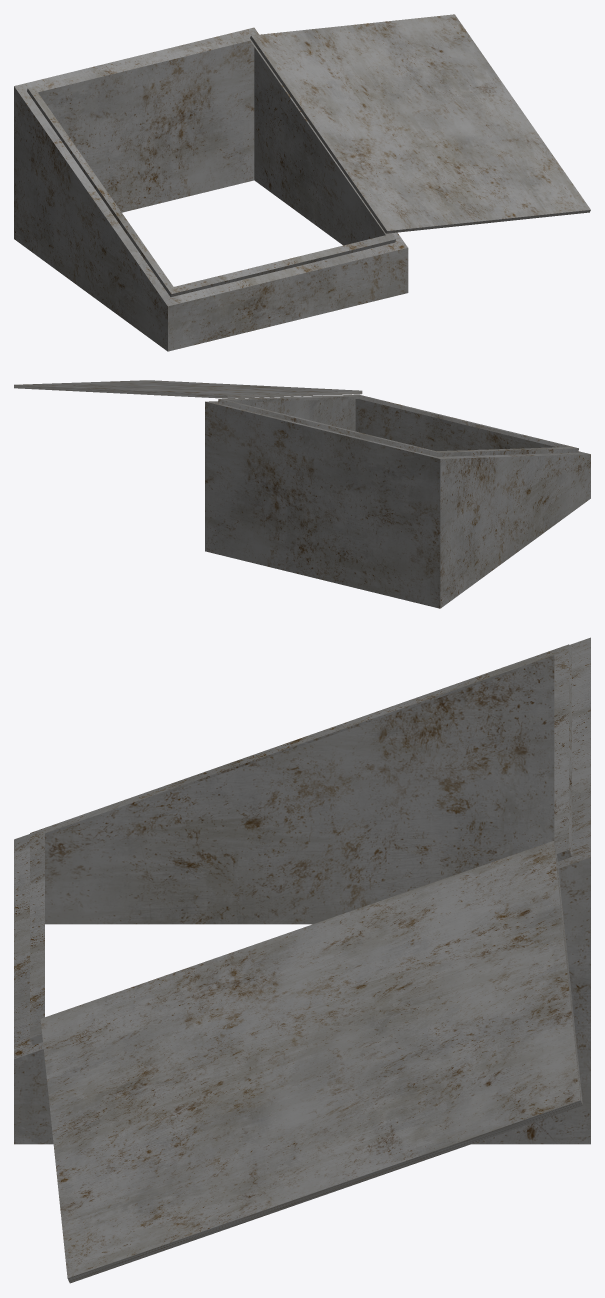
The model's file is BasementEntranceInverted.fbx.
3 renders of one model, top to bottom at view 1: azimuth 30°, elevation 25°; view 2: azimuth 150°, elevation 25°; view 3: azimuth 270°, elevation 25°, orthographic. The views are drawn at different scales.
Visible parts, largest first — view 1: pCube1, pCube2; view 2: pCube1, pCube2; view 3: pCube2, pCube1.
Part boxes in pixels (box(x1,y1,x2,y2)): pCube1: box(14, 27, 408, 351); pCube2: box(250, 14, 590, 233); pCube1: box(205, 394, 590, 608); pCube2: box(14, 380, 362, 398); pCube2: box(40, 841, 582, 1283); pCube1: box(14, 637, 590, 1144).
Size of the model in its own units: 2.47 by 0.8378 by 1.5.
